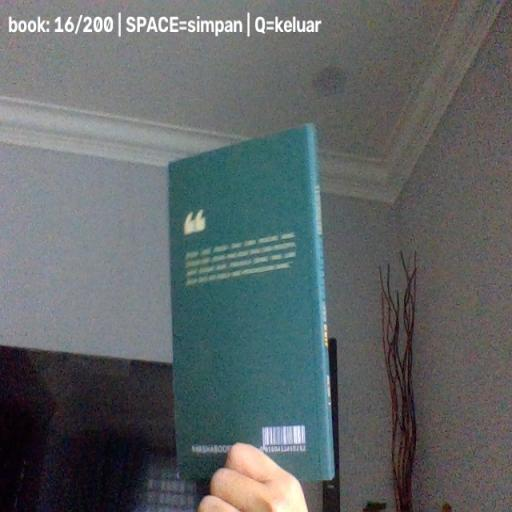Book: (167, 122, 335, 484)
